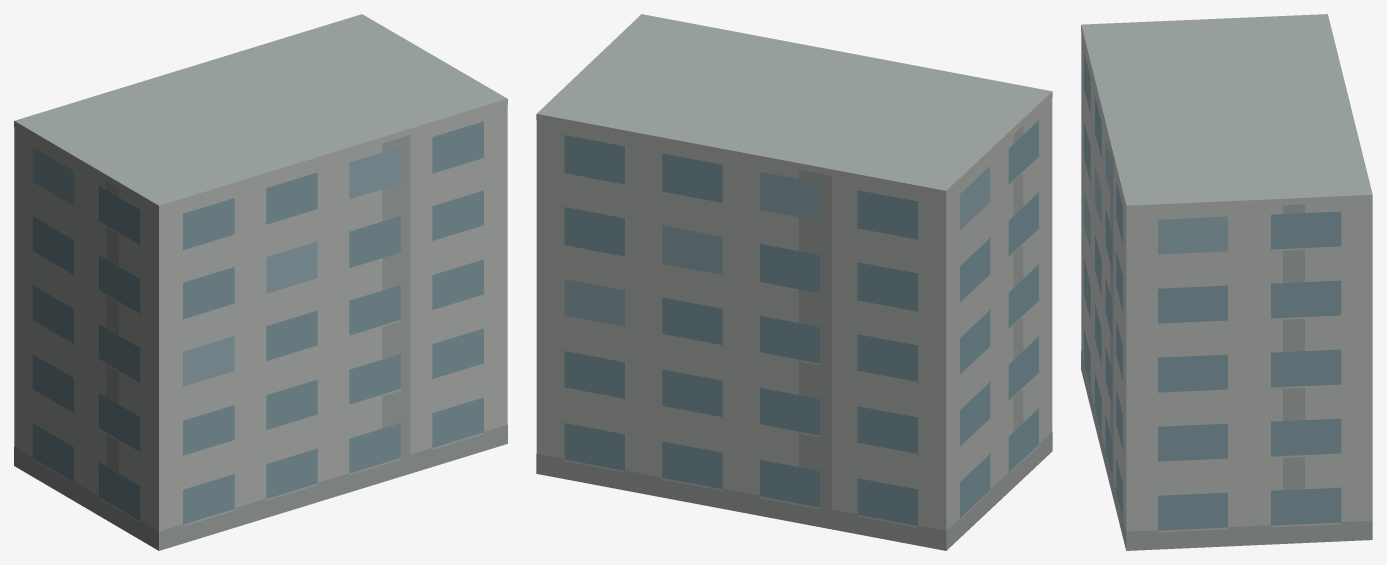
Rendered from survey-upis-32890050.glb.
3 views of the same model, side by side, from view 1: azimuth 30°, elevation 25°; view 2: azimuth 150°, elevation 25°; view 3: azimuth 270°, elevation 25° (orthographic). The views are drawn at different scales.
Parts seen in each view (by area): view 1: survey-upis-32890050.tmp; view 2: survey-upis-32890050.tmp; view 3: survey-upis-32890050.tmp.
Boxes of the visible parts, x1,y1,x2,y2 form: survey-upis-32890050.tmp: (14, 14, 507, 550); survey-upis-32890050.tmp: (536, 14, 1052, 550); survey-upis-32890050.tmp: (1081, 14, 1372, 550).
Bounding box in the file's own units: 15.73 × 13.2 × 10.12.
